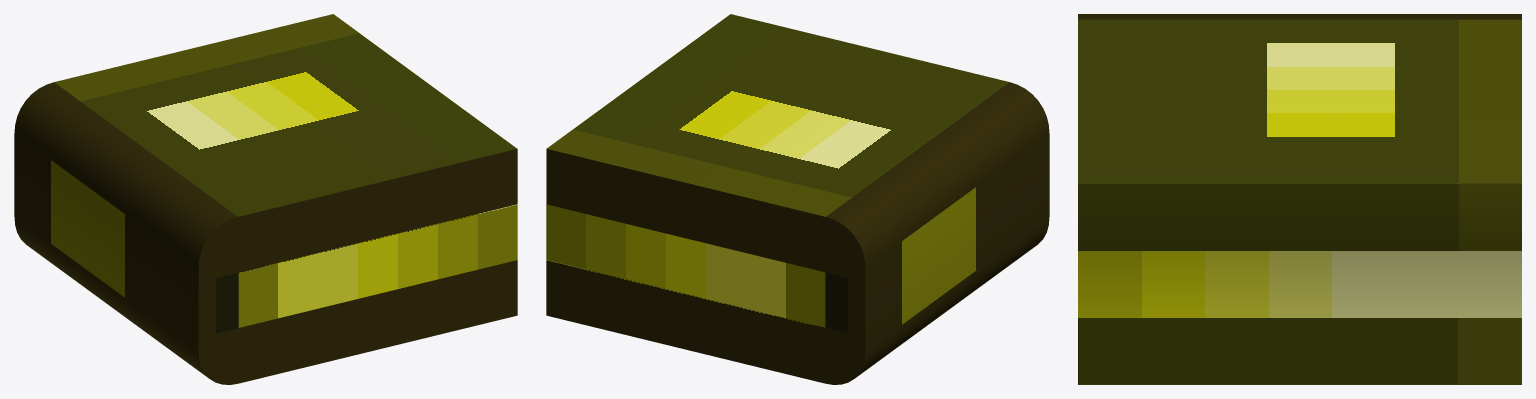
File: book_642x01.obj
3 renders of one model, left to right at view 1: azimuth 30°, elevation 25°; view 2: azimuth 150°, elevation 25°; view 3: azimuth 270°, elevation 25°, orthographic. The views are drawn at different scales.
Visible parts, largest first — view 1: Cube; view 2: Cube; view 3: Cube.
Part boxes in pixels (x1,y1,x2,y2): Cube: (14, 14, 517, 384); Cube: (546, 14, 1049, 384); Cube: (1078, 14, 1521, 384).
Bounding box in the file's own units: 1 × 0.5 × 1.
